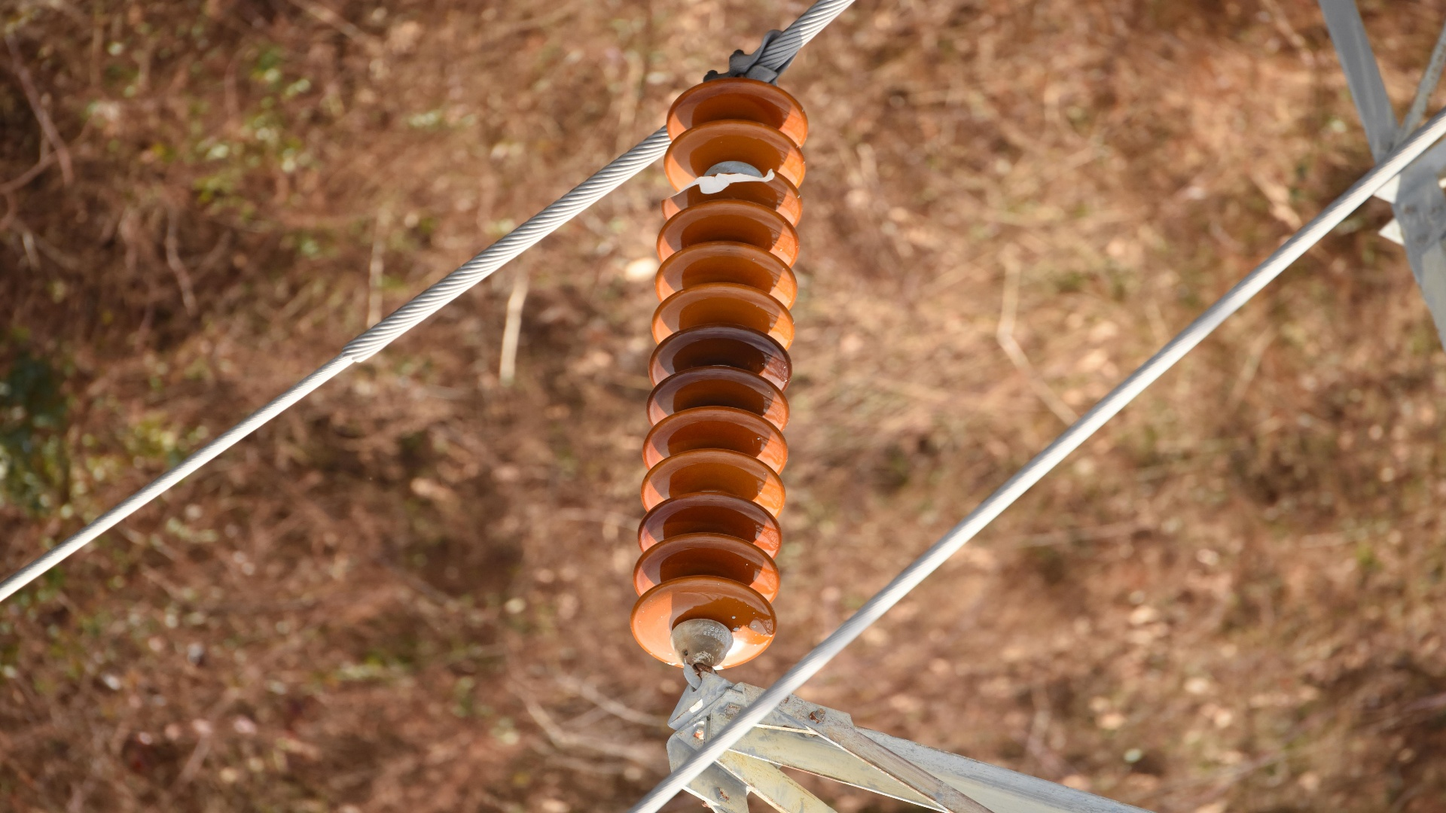insulator: (624, 74, 814, 671)
insulator_breakage: (658, 165, 779, 206)
